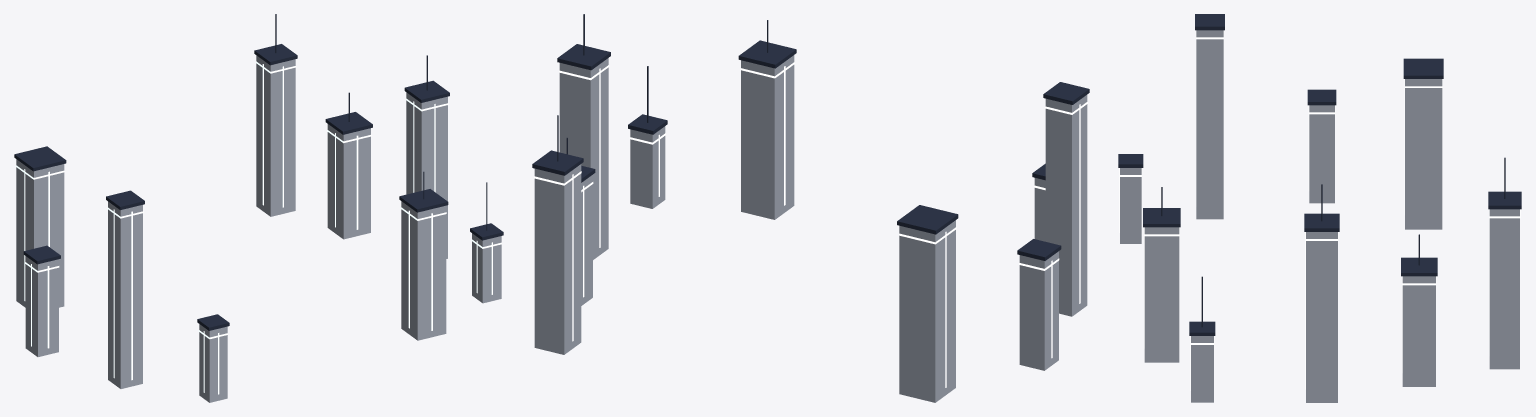
The picture shows the model from 3 angles, left to right: view 1: azimuth 30°, elevation 25°; view 2: azimuth 150°, elevation 25°; view 3: azimuth 270°, elevation 25°; orthographic projection. The views are drawn at different scales.
Parts seen in each view (by area): view 1: nexo_spires_frontera.lod0; view 2: nexo_spires_frontera.lod0; view 3: nexo_spires_frontera.lod0.
Part boxes in pixels (<box>): nexo_spires_frontera.lod0: <box>14,14,503,402</box>; nexo_spires_frontera.lod0: <box>532,14,1089,402</box>; nexo_spires_frontera.lod0: <box>1118,14,1521,402</box>.
Bounding box in the file's own units: 26.37 × 12.3 × 21.24.
